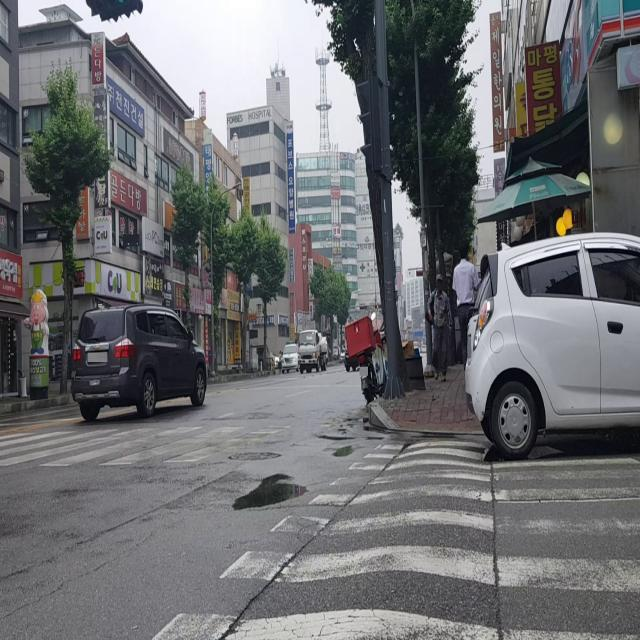횡단보도: (147, 430, 640, 640), (0, 428, 352, 466)
